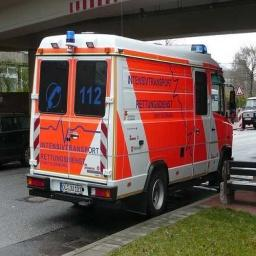ambulance: (27, 31, 232, 215)
